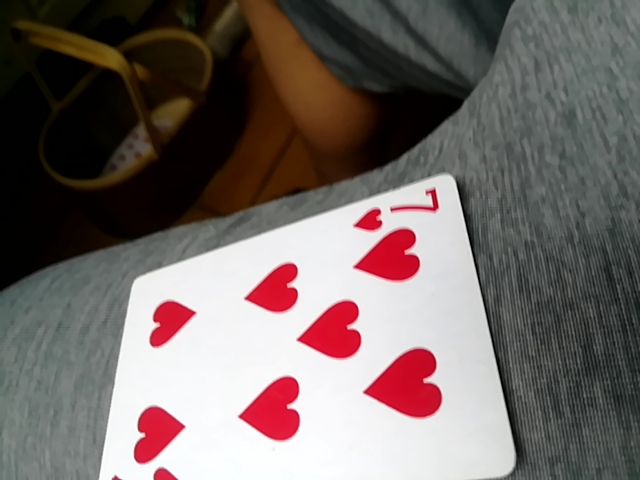hx 7: (100, 171, 520, 479)
